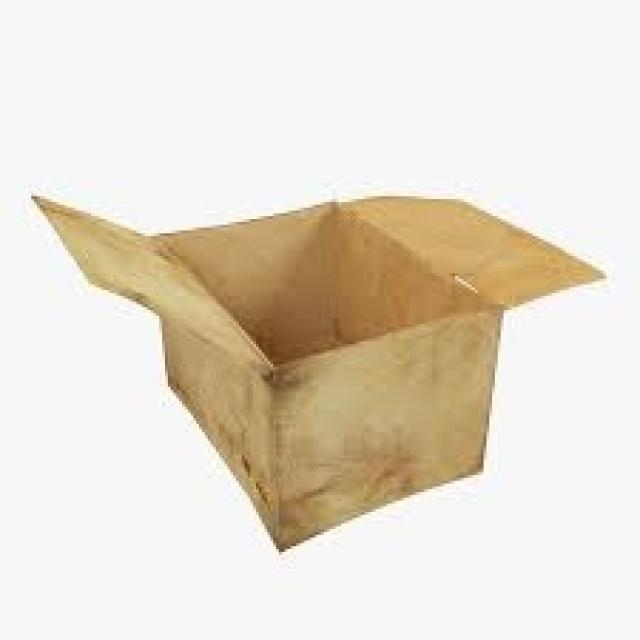cardboard paper: (34, 196, 600, 547)
